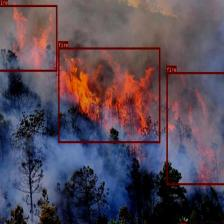fire: (58, 48, 160, 142), (166, 72, 224, 184), (0, 5, 57, 72)
